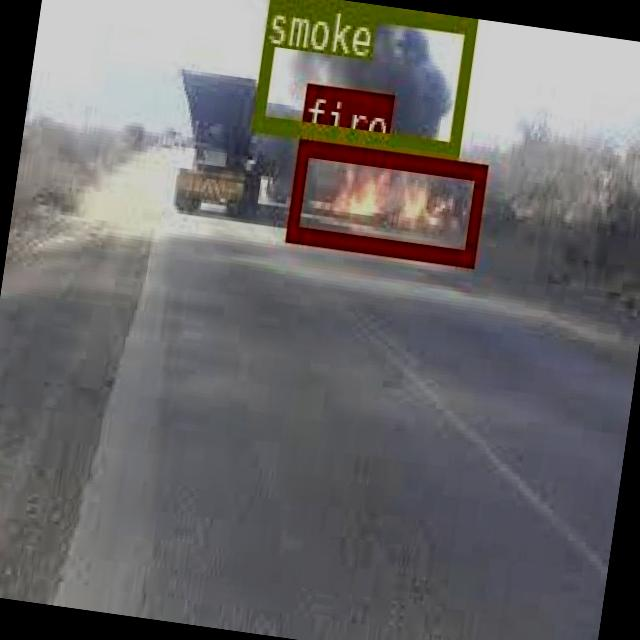fire: (284, 136, 486, 266)
smoke: (249, 0, 473, 157)
